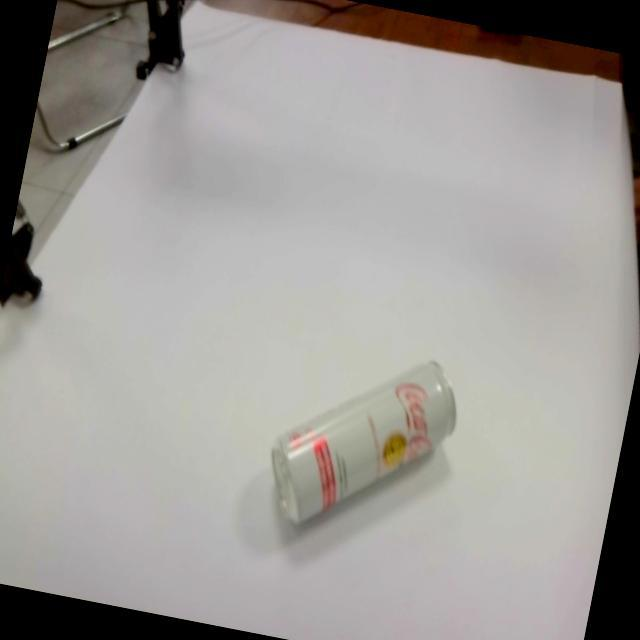debris: (252, 331, 467, 571)
